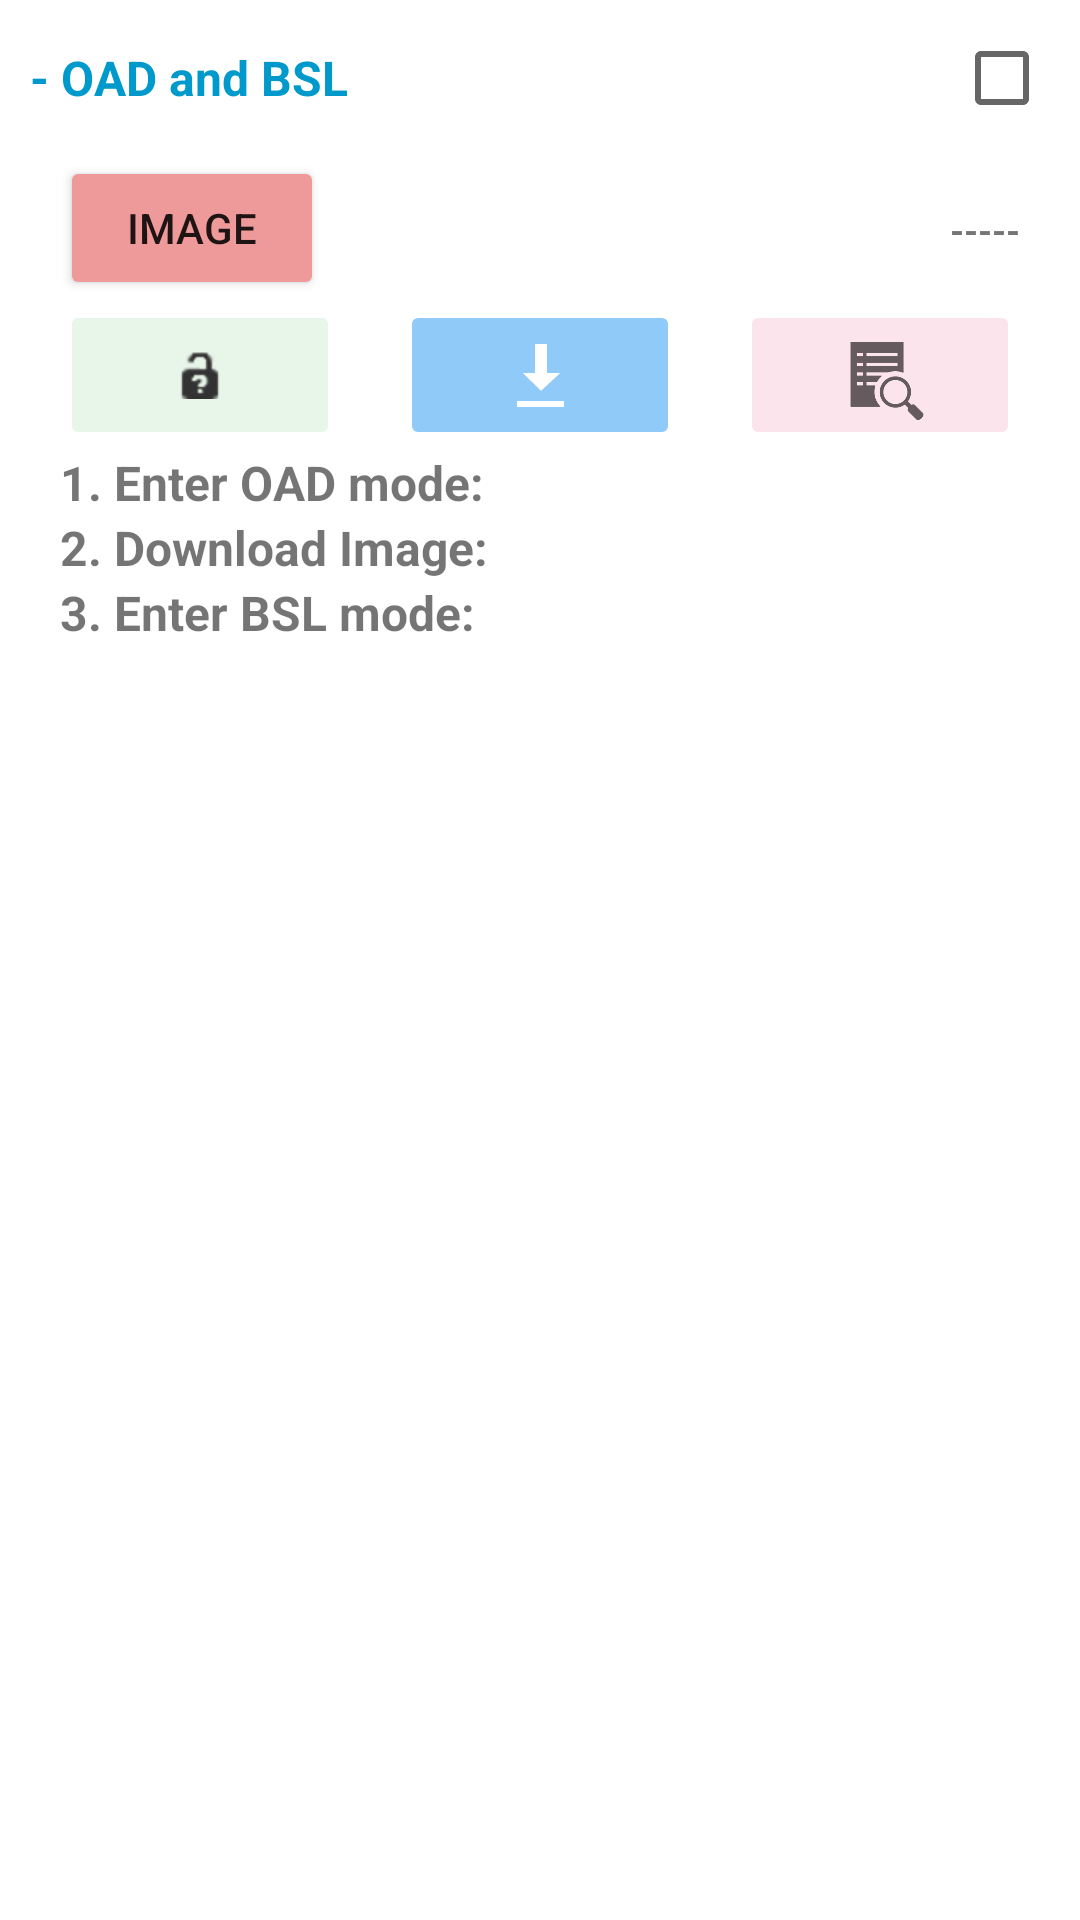

Icons on this 1080px x 1920px Android screen, each with the point to tap as point (x, y):
partial secure: point (200, 375)
